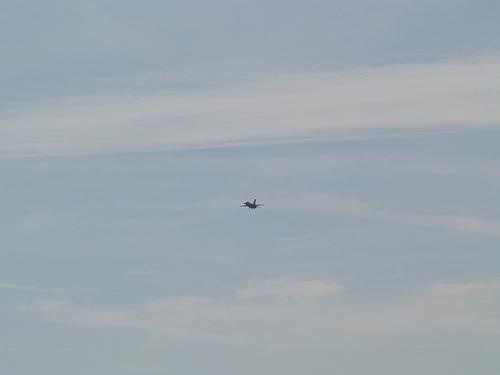aeroplane: (238, 197, 267, 215)
